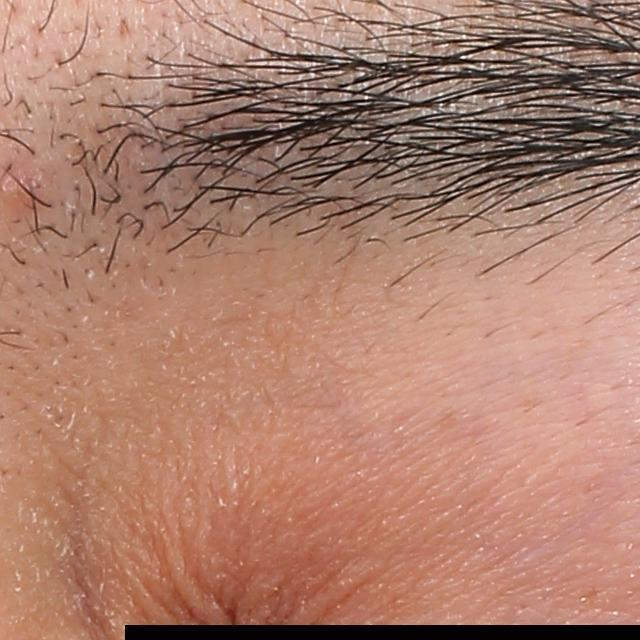papule: (3, 166, 43, 207)
